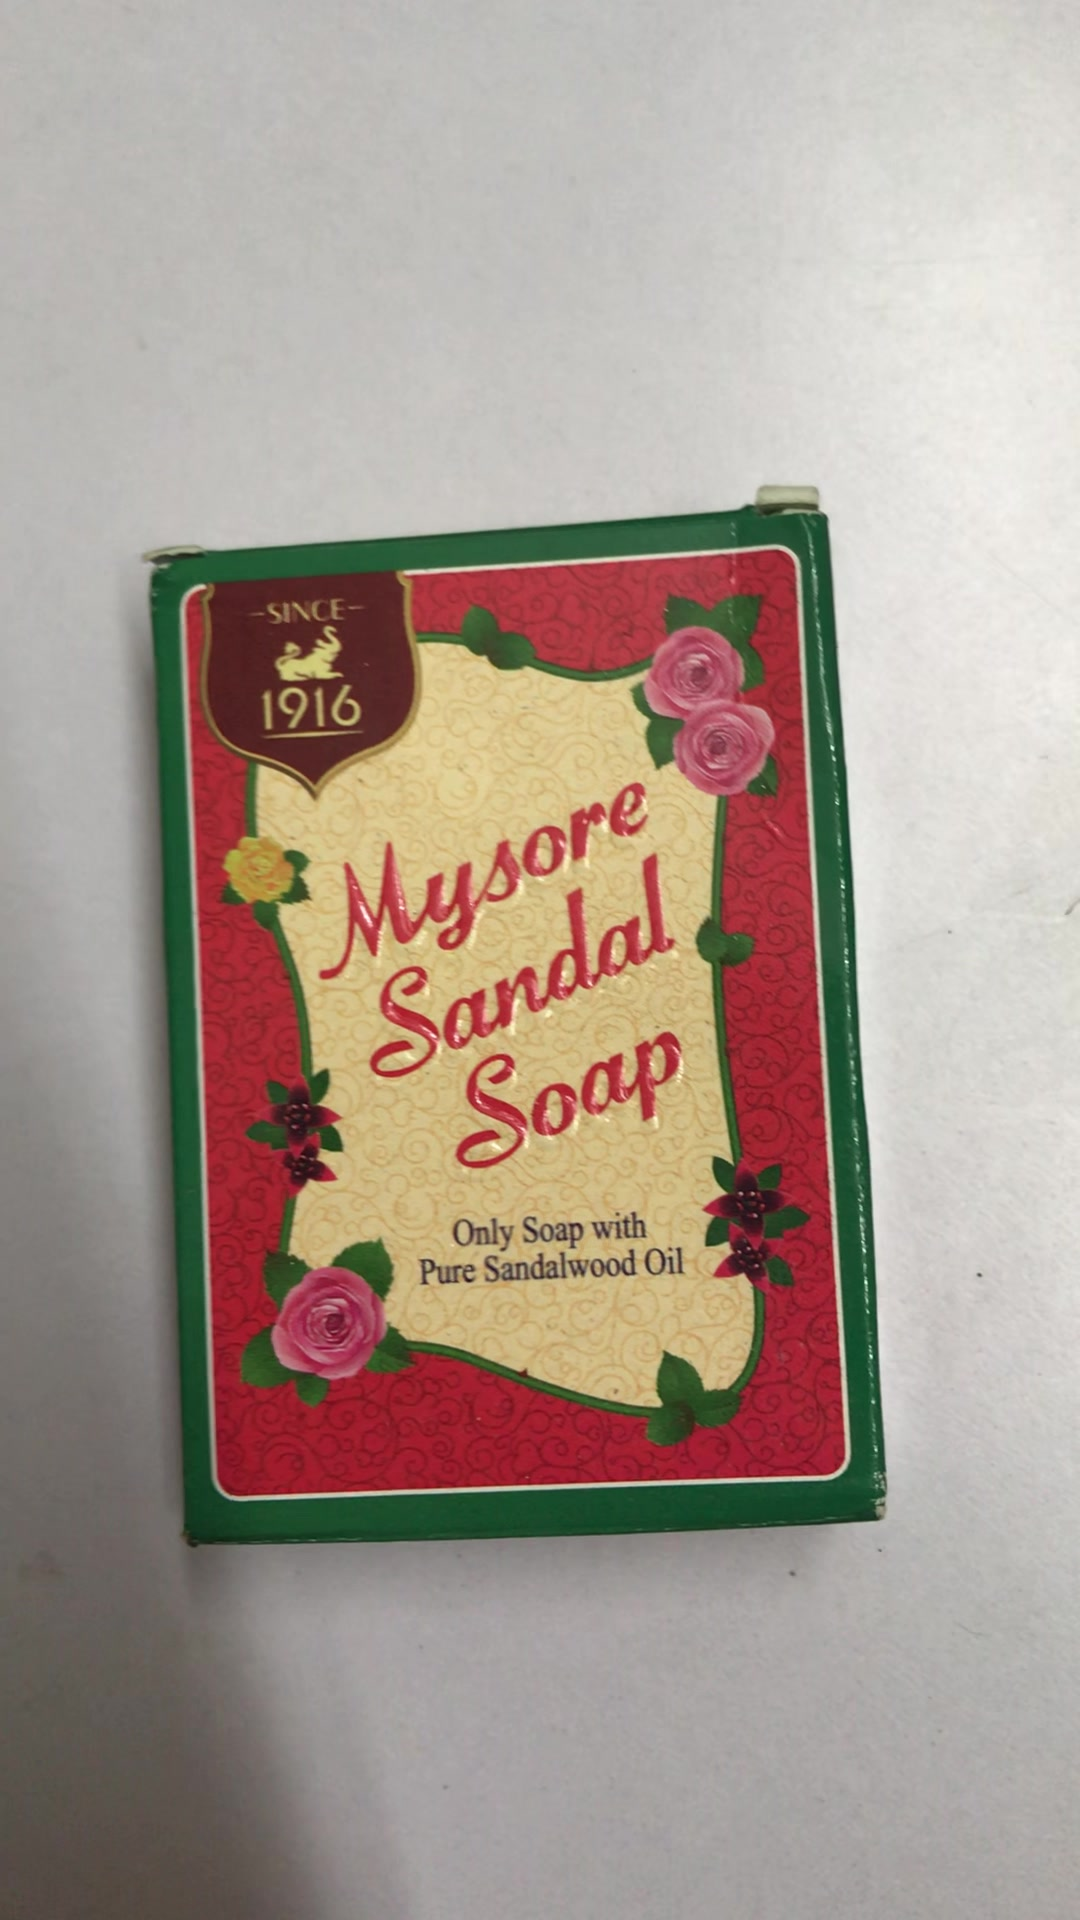mysore sandal soap: (149, 508, 884, 1542)
